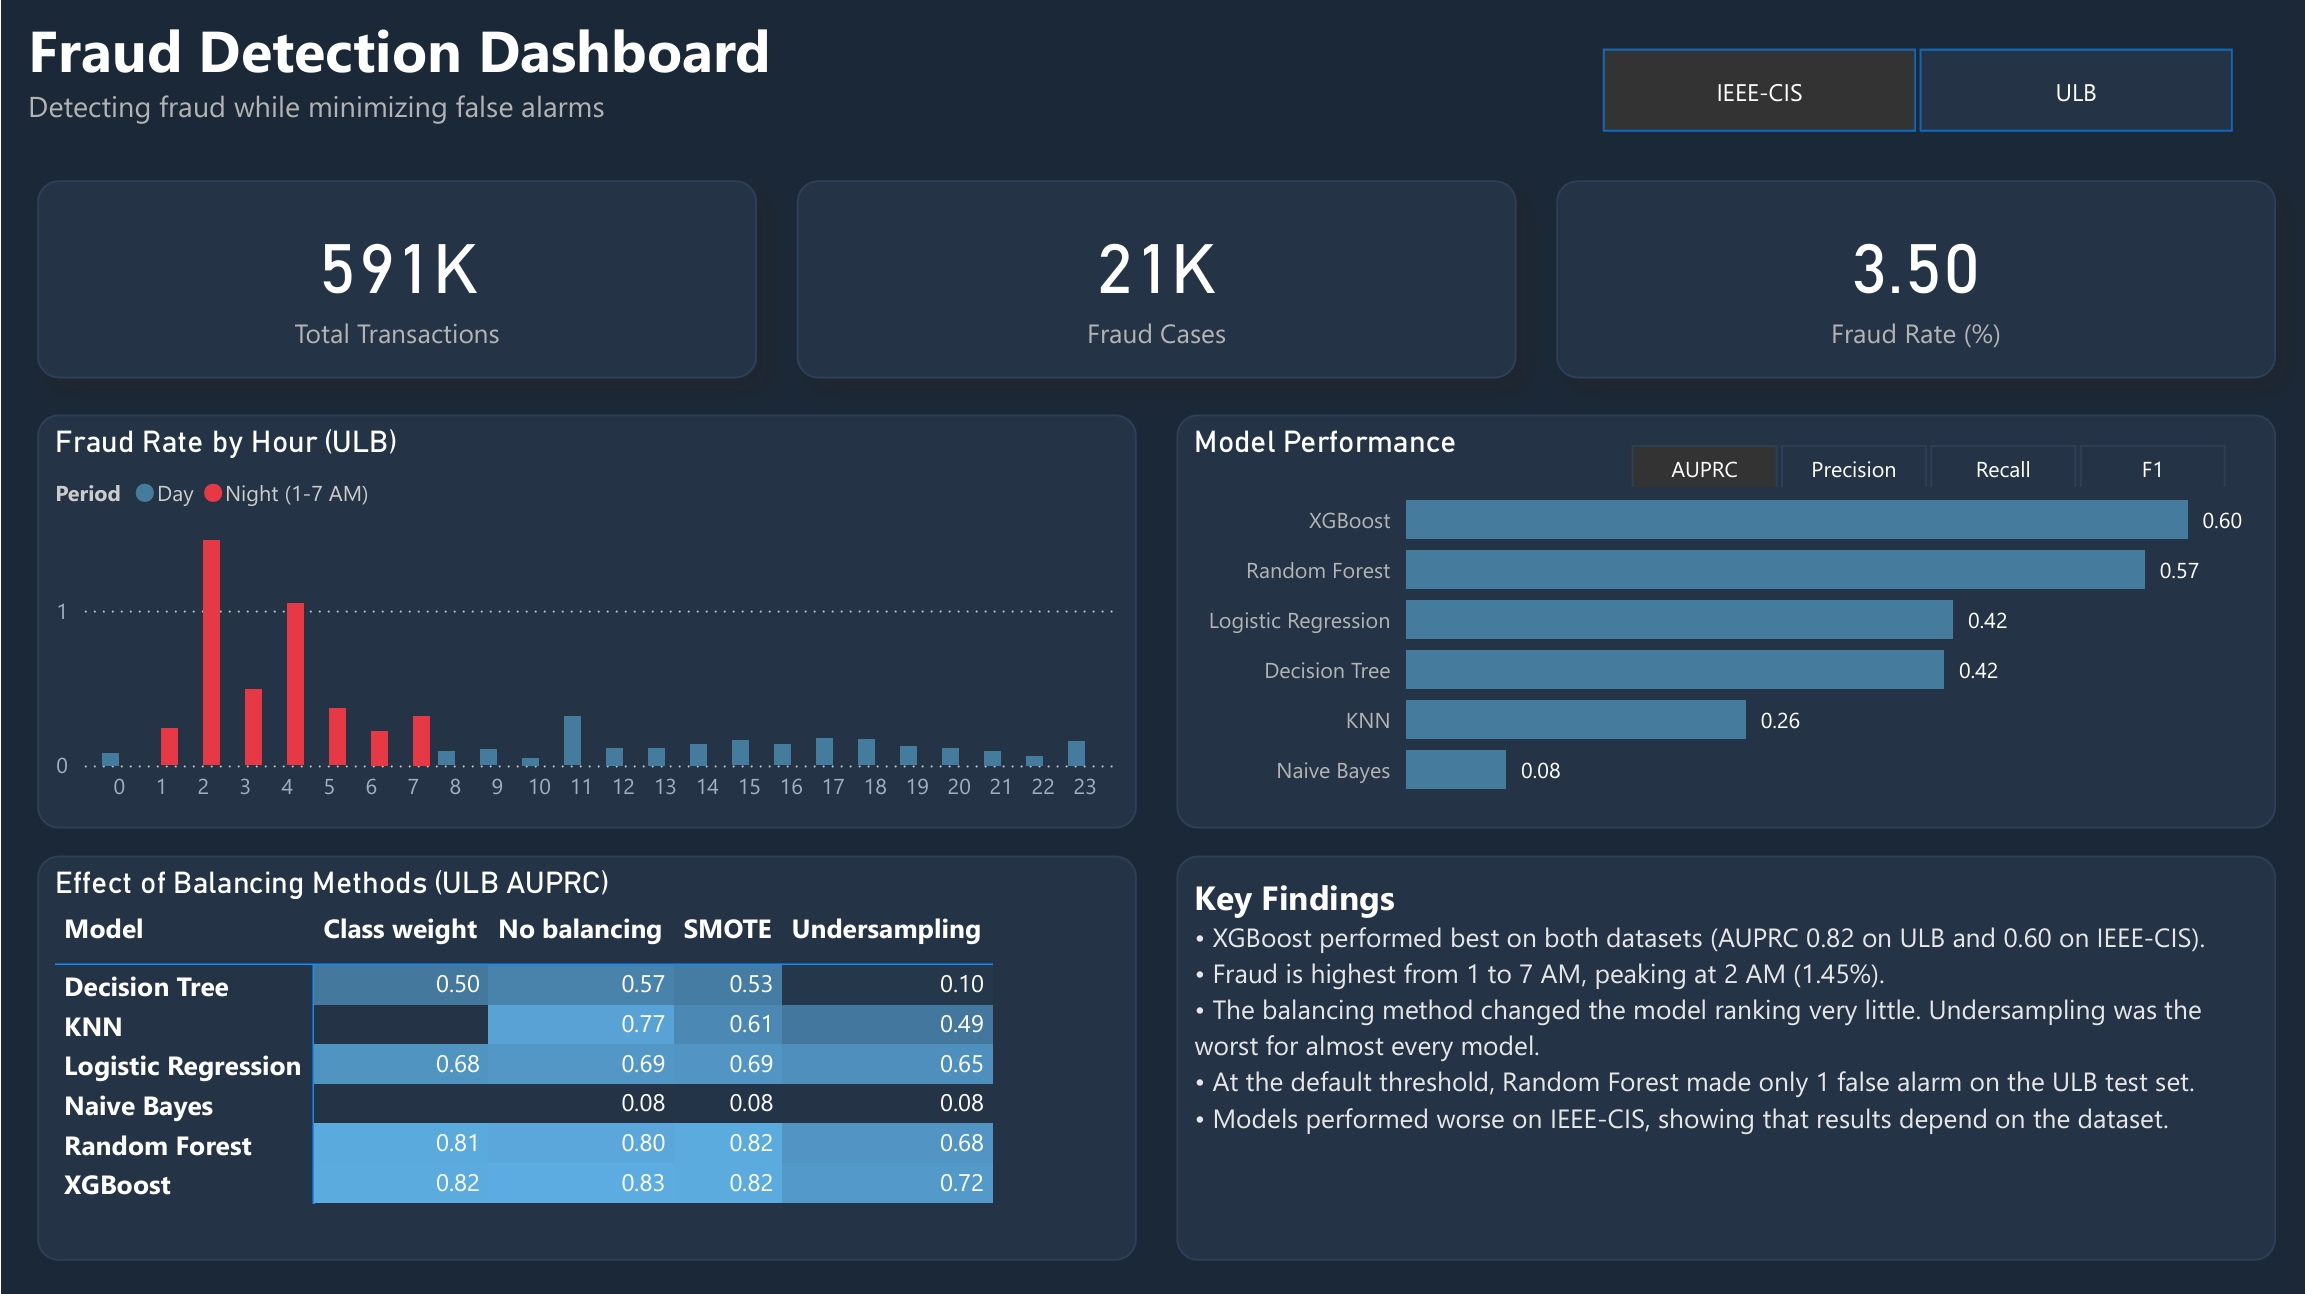

The page's visual inventory and layout, read from the dashboard file:
{"tool":"powerbi","page":{"name":"Page 1","canvas":[1280,720],"ordinal":0},"visuals":[{"type":"textbox","box":[9.9,0,437,104.3],"z":0},{"type":"card","fields":{"Values":["Sum(pbi_summary.Transactions)"]},"box":[20,100,400,110],"z":1000},{"type":"card","fields":{"Values":["Avg(pbi_summary.Fraud Rate (%))"]},"box":[864,100,400,110],"z":2000},{"type":"card","fields":{"Values":["Sum(pbi_summary.Fraud)"]},"box":[442,100,400,110],"z":3000},{"type":"slicer","fields":{"Values":["pbi_summary.Dataset"]},"box":[864,20,400,60],"z":4000},{"type":"clusteredColumnChart","title":"Fraud Rate by Hour (ULB)","fields":{"Category":["pbi_fraud_by_hour.Hour"],"Y":["Sum(pbi_fraud_by_hour.Fraud Rate (%))"],"Series":["pbi_fraud_by_hour.Period"]},"box":[20,230,611,230],"z":5000},{"type":"clusteredBarChart","title":"Model Performance","fields":{"Category":["pbi_model_results.Model"],"Y":["pbi_model_results.F1 Score"]},"box":[653,230,611,230],"z":6000},{"type":"pivotTable","title":"Effect of Balancing Methods (ULB AUPRC)","fields":{"Rows":["pbi_balancing_results.Model"],"Columns":["pbi_balancing_results.Balancing"],"Values":["Avg(pbi_balancing_results.AUPRC)"]},"box":[20,475,611,225],"z":7000},{"type":"textbox","box":[653,475,611,225],"z":8000},{"type":"slicer","fields":{"Values":["Metric.Metric"]},"box":[880,240,380,30],"z":8001}]}

Visuals, with their boxes in screenshot pixels (x1, y1, x2, y2), scaled from the page's 1280x720 canvas onto the 2308x1294 screenshot:
textbox: BBox(18, 0, 806, 187)
card - Sum(pbi_summary.Transactions): BBox(36, 180, 757, 377)
card - Avg(pbi_summary.Fraud Rate (%)): BBox(1558, 180, 2279, 377)
card - Sum(pbi_summary.Fraud): BBox(797, 180, 1518, 377)
slicer - pbi_summary.Dataset: BBox(1558, 36, 2279, 144)
"Fraud Rate by Hour (ULB)" clusteredColumnChart: BBox(36, 413, 1138, 827)
"Model Performance" clusteredBarChart: BBox(1177, 413, 2279, 827)
"Effect of Balancing Methods (ULB AUPRC)" pivotTable: BBox(36, 854, 1138, 1258)
textbox: BBox(1177, 854, 2279, 1258)
slicer - Metric.Metric: BBox(1587, 431, 2272, 485)
